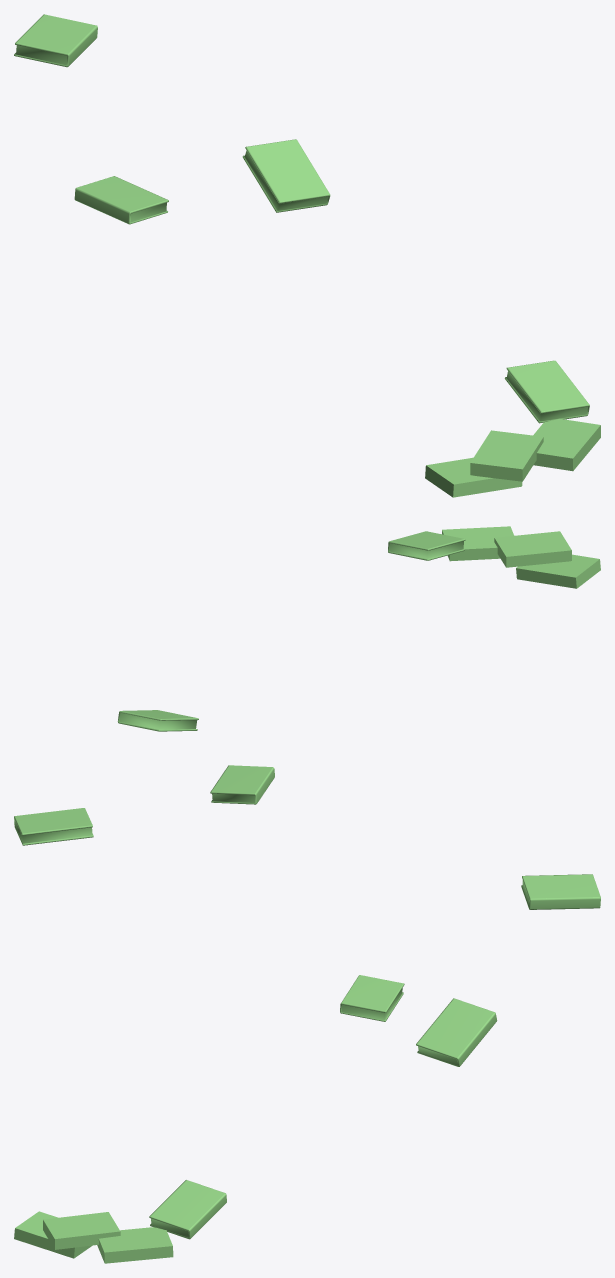
File: Bookcase_05_BreakC_Lod0.fbx
3 views of the same model, one above another, from view 1: azimuth 30°, elevation 25°; view 2: azimuth 150°, elevation 25°; view 3: azimuth 330°, elevation 25° (orthographic). The views are drawn at different scales.
Visible parts, largest first — view 1: Bookcase_05_BreakC_Lod0; view 2: Bookcase_05_BreakC_Lod0; view 3: Bookcase_05_BreakC_Lod0.
Boxes of the visible parts, <box> form: Bookcase_05_BreakC_Lod0: <box>14,14,600,497</box>; Bookcase_05_BreakC_Lod0: <box>14,526,600,845</box>; Bookcase_05_BreakC_Lod0: <box>14,874,600,1263</box>.
Size of the model in its own units: 73.77 by 24.3 by 351.
